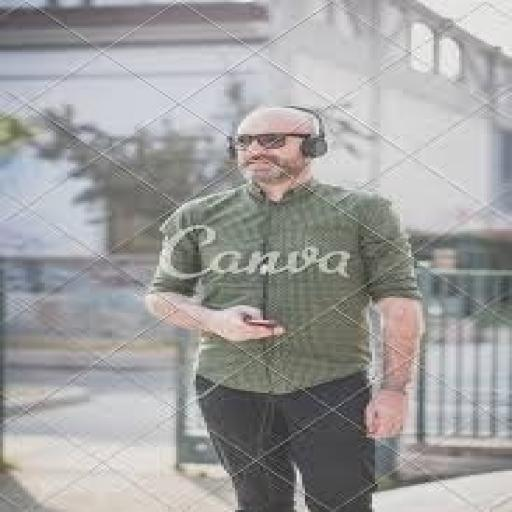listening_to_music: (143, 103, 431, 510)
